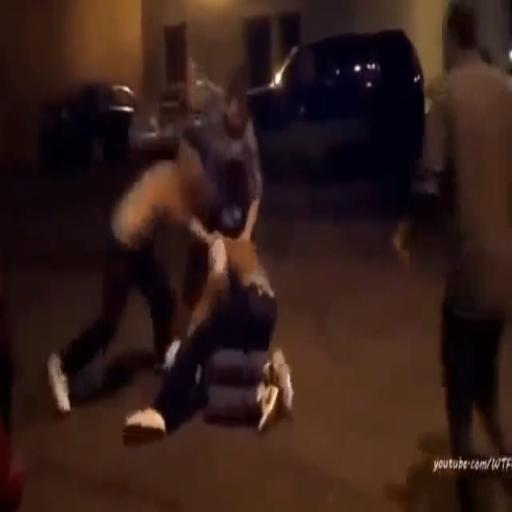violencia: (32, 83, 309, 459)
